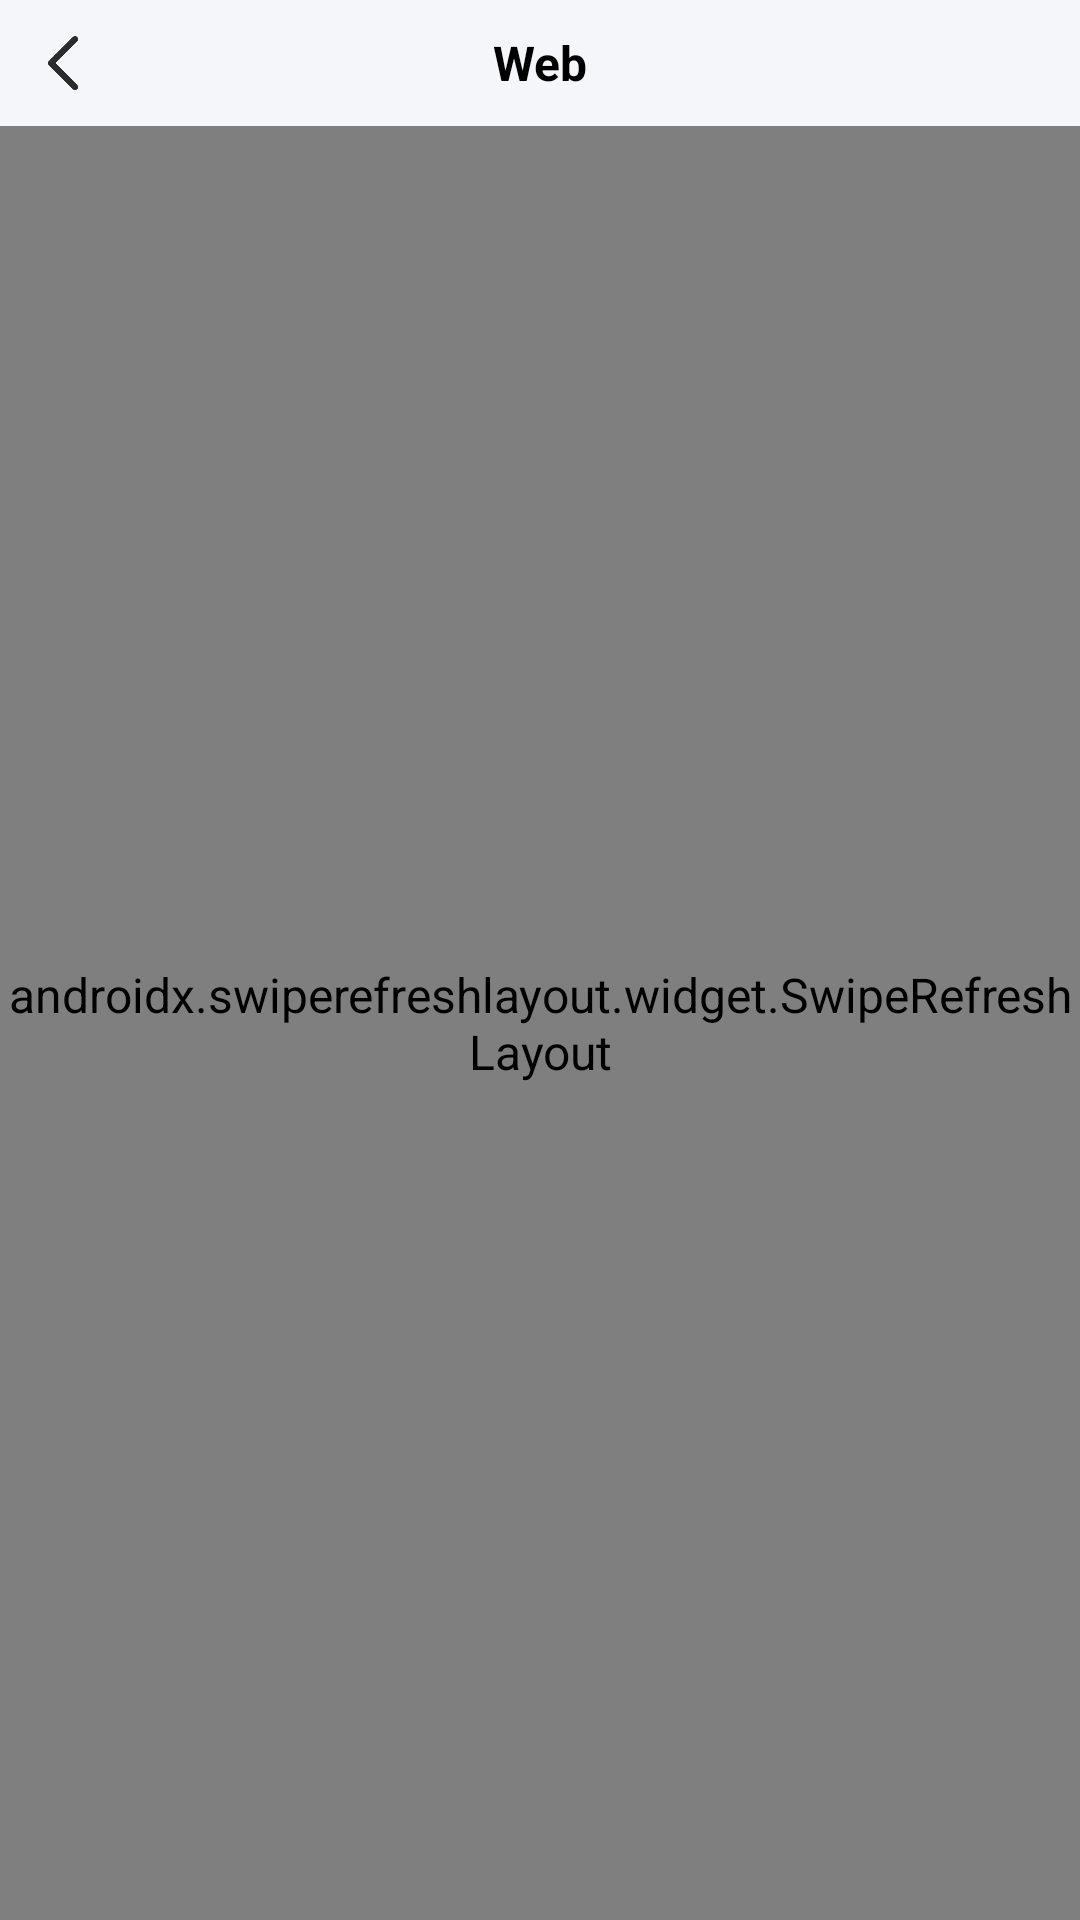

Screen size 1080*1920. Icon name, then its center in pixels as point (x, y):
prev: point (63, 63)
